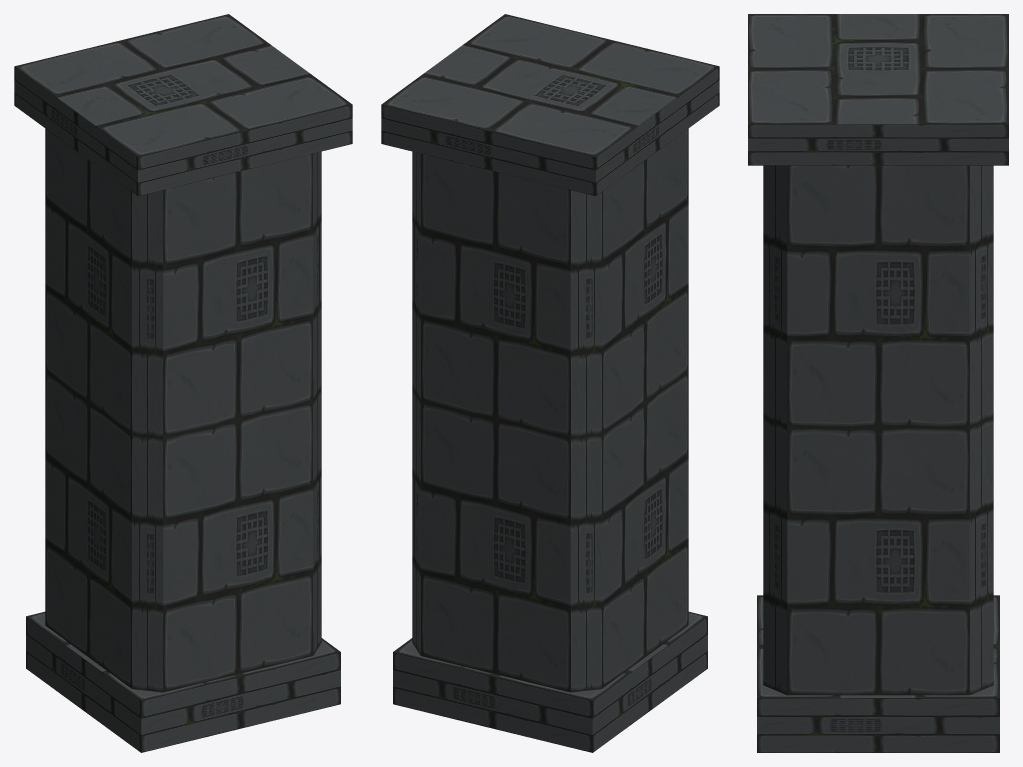
Rendered from pillar.glb.
3 renders of one model, left to right at view 1: azimuth 30°, elevation 25°; view 2: azimuth 150°, elevation 25°; view 3: azimuth 270°, elevation 25°, orthographic. The views are drawn at different scales.
Visible parts, largest first — view 1: CandidateMesh; view 2: CandidateMesh; view 3: CandidateMesh.
Part boxes in pixels (<box>): CandidateMesh: <box>14,14,352,752</box>; CandidateMesh: <box>381,14,719,752</box>; CandidateMesh: <box>748,14,1008,752</box>.
Bounding box in the file's own units: 0.86 × 2.3 × 0.86.
Materials: 2 (2 with a texture image).
